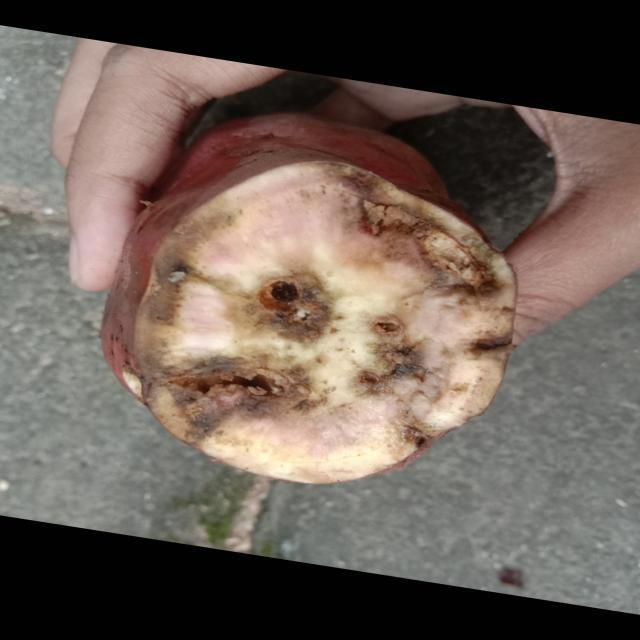Sick Sweet Potato_Tuber Rot: (135, 161, 515, 484)
